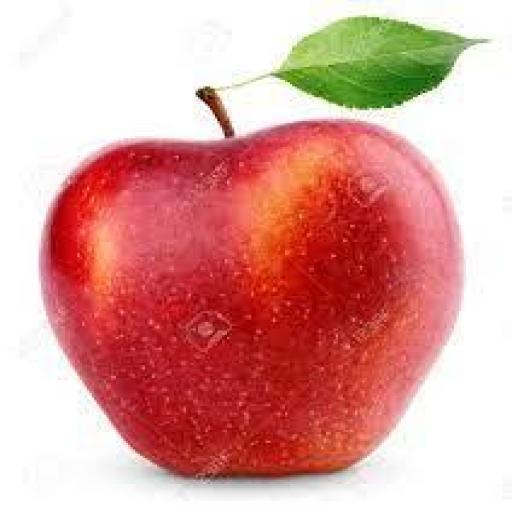apple: (42, 121, 461, 475)
